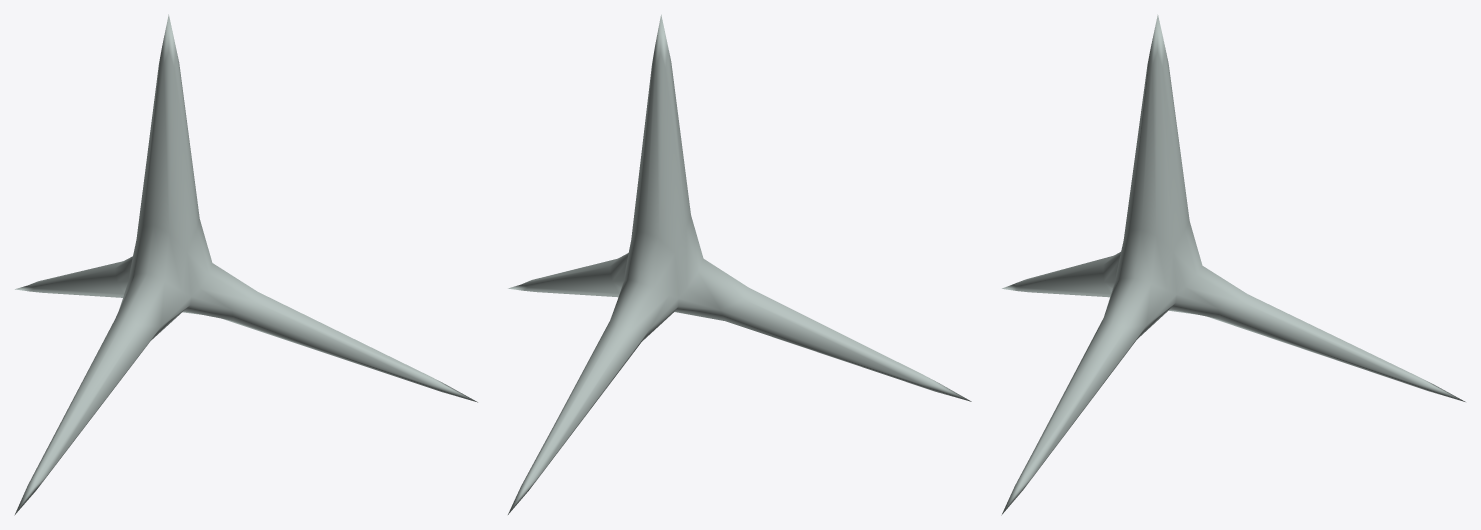
File: Tetsubishi.fbx
3 renders of one model, left to right at view 1: azimuth 30°, elevation 25°; view 2: azimuth 150°, elevation 25°; view 3: azimuth 270°, elevation 25°, orthographic.
Parts seen in each view (by area): view 1: Tetsubishi; view 2: Tetsubishi; view 3: Tetsubishi.
Part boxes in pixels (bbox=[...]): Tetsubishi: bbox=[14, 14, 477, 515]; Tetsubishi: bbox=[508, 14, 971, 514]; Tetsubishi: bbox=[1001, 14, 1465, 515].
Size of the model in its own units: 0.231 by 0.1844 by 0.2002.
